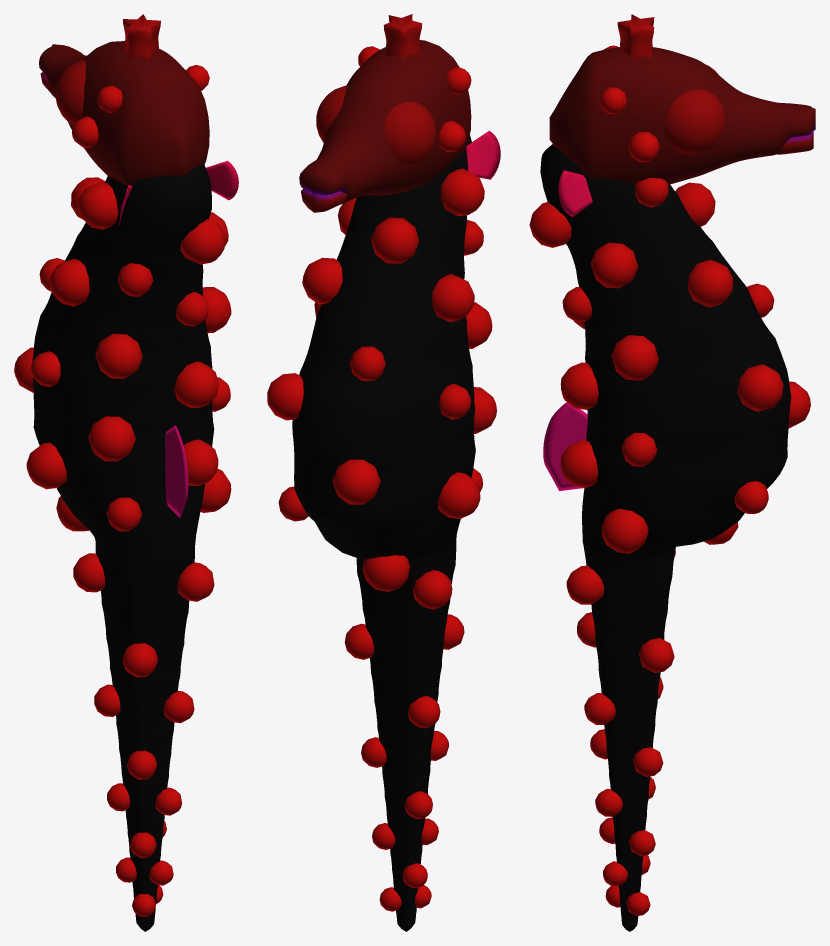
Rendered from seahorse_pygmy.glb.
3 renders of one model, left to right at view 1: azimuth 30°, elevation 25°; view 2: azimuth 150°, elevation 25°; view 3: azimuth 270°, elevation 25°, orthographic.
Parts seen in each view (by area): view 1: seahorse_pygmy; view 2: seahorse_pygmy; view 3: seahorse_pygmy.
Boxes of the visible parts, left/top/right/bottom form: seahorse_pygmy: left=14, top=14, right=238, bottom=931; seahorse_pygmy: left=267, top=14, right=500, bottom=931; seahorse_pygmy: left=529, top=14, right=815, bottom=931.
Size of the model in its own units: 0.0313 by 0.15 by 0.0427.
